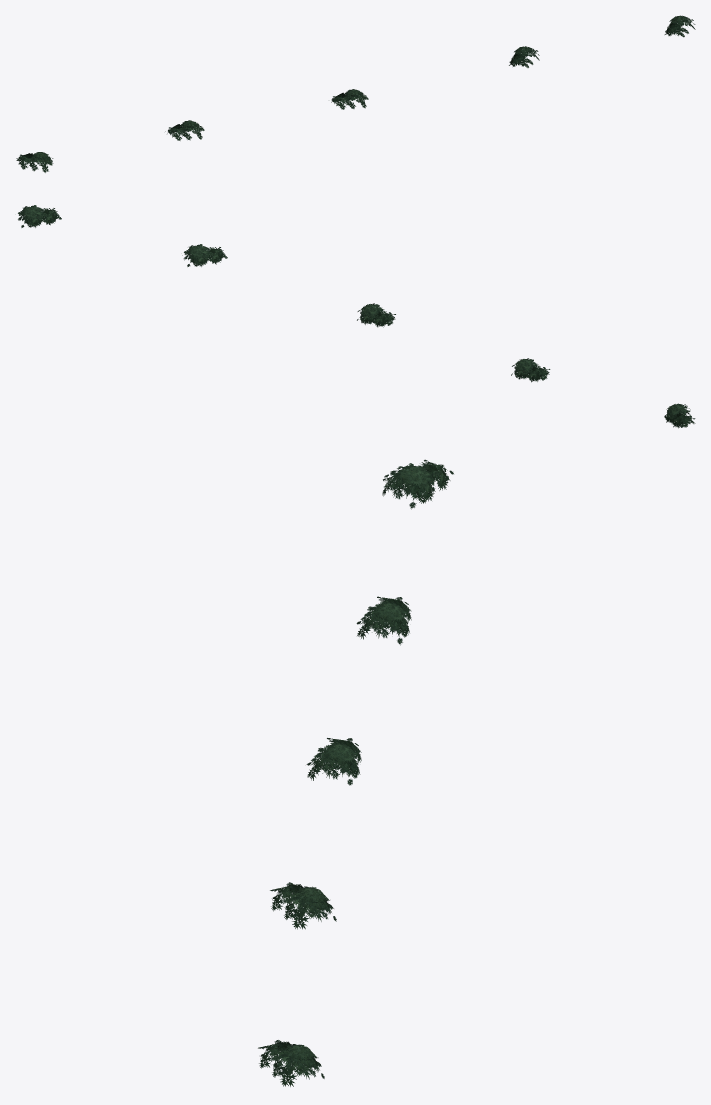
Rendered from Area_15_27.fbx.
The picture shows the model from 3 angles, top to bottom: view 1: azimuth 30°, elevation 25°; view 2: azimuth 150°, elevation 25°; view 3: azimuth 270°, elevation 25°; orthographic projection. The views are drawn at different scales.
Visible parts, largest first — view 1: Area_15_27; view 2: Area_15_27; view 3: Area_15_27.
Boxes of the visible parts, x1,y1,x2,y2 form: Area_15_27: (16, 15, 695, 172); Area_15_27: (18, 205, 695, 428); Area_15_27: (258, 459, 453, 1086).
Bounding box in the file's own units: 7156 × 328 × 971.
